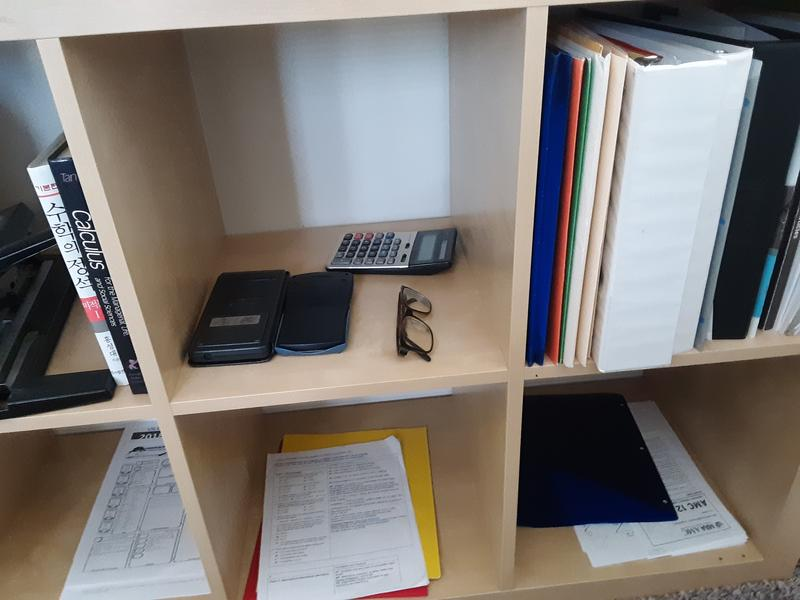glasses: (394, 281, 436, 365)
